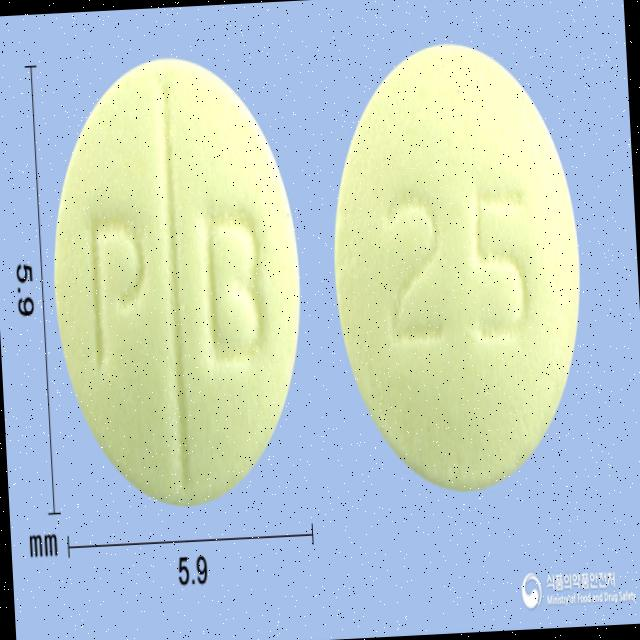Azabio - 50mg: (41, 46, 315, 516)
